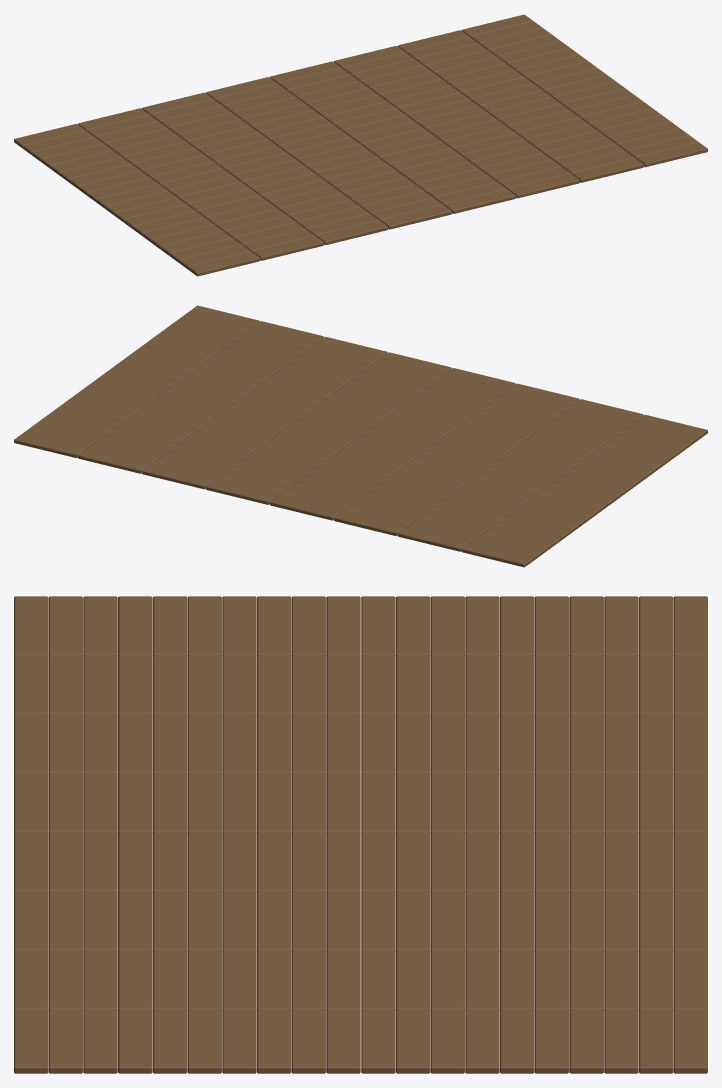
The model's file is floor_temp.fbx.
3 views of the same model, one above another, from view 1: azimuth 30°, elevation 25°; view 2: azimuth 150°, elevation 25°; view 3: azimuth 270°, elevation 25° (orthographic). The views are drawn at different scales.
Visible parts, largest first — view 1: Cube; view 2: Cube; view 3: Cube.
Part boxes in pixels (x1,y1,x2,y2): Cube: (14,14,707,276); Cube: (14,305,707,567); Cube: (14,596,707,1073).
Bounding box in the file's own units: 1614 × 11.61 × 1004.
